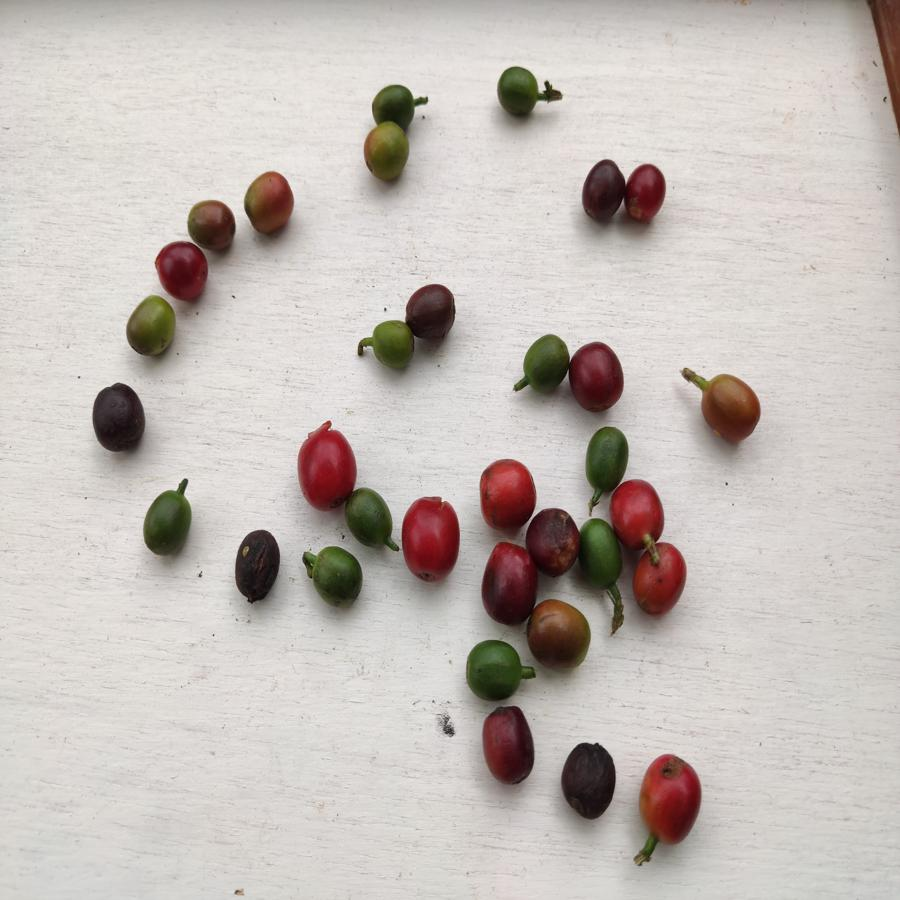Inmaduro: (465, 640, 525, 702), (308, 544, 366, 608), (142, 488, 194, 557), (520, 332, 570, 395), (345, 489, 396, 549), (584, 425, 628, 490), (581, 518, 620, 591), (128, 296, 175, 353), (495, 66, 545, 117), (370, 321, 416, 372), (370, 83, 419, 123)
Maduro: (638, 750, 702, 845), (400, 495, 464, 582), (298, 423, 352, 510), (630, 542, 689, 618), (478, 458, 535, 528), (615, 481, 668, 540)
Pinton: (525, 596, 592, 671), (697, 372, 762, 444), (240, 170, 296, 234), (362, 120, 410, 182), (185, 198, 238, 251)
Sobremaduro: (559, 739, 617, 823), (482, 704, 535, 786), (480, 542, 533, 623), (568, 341, 625, 413), (233, 531, 282, 606), (92, 383, 145, 452), (528, 508, 579, 577), (154, 243, 213, 302), (581, 158, 626, 226), (405, 282, 456, 338), (625, 165, 668, 223)
